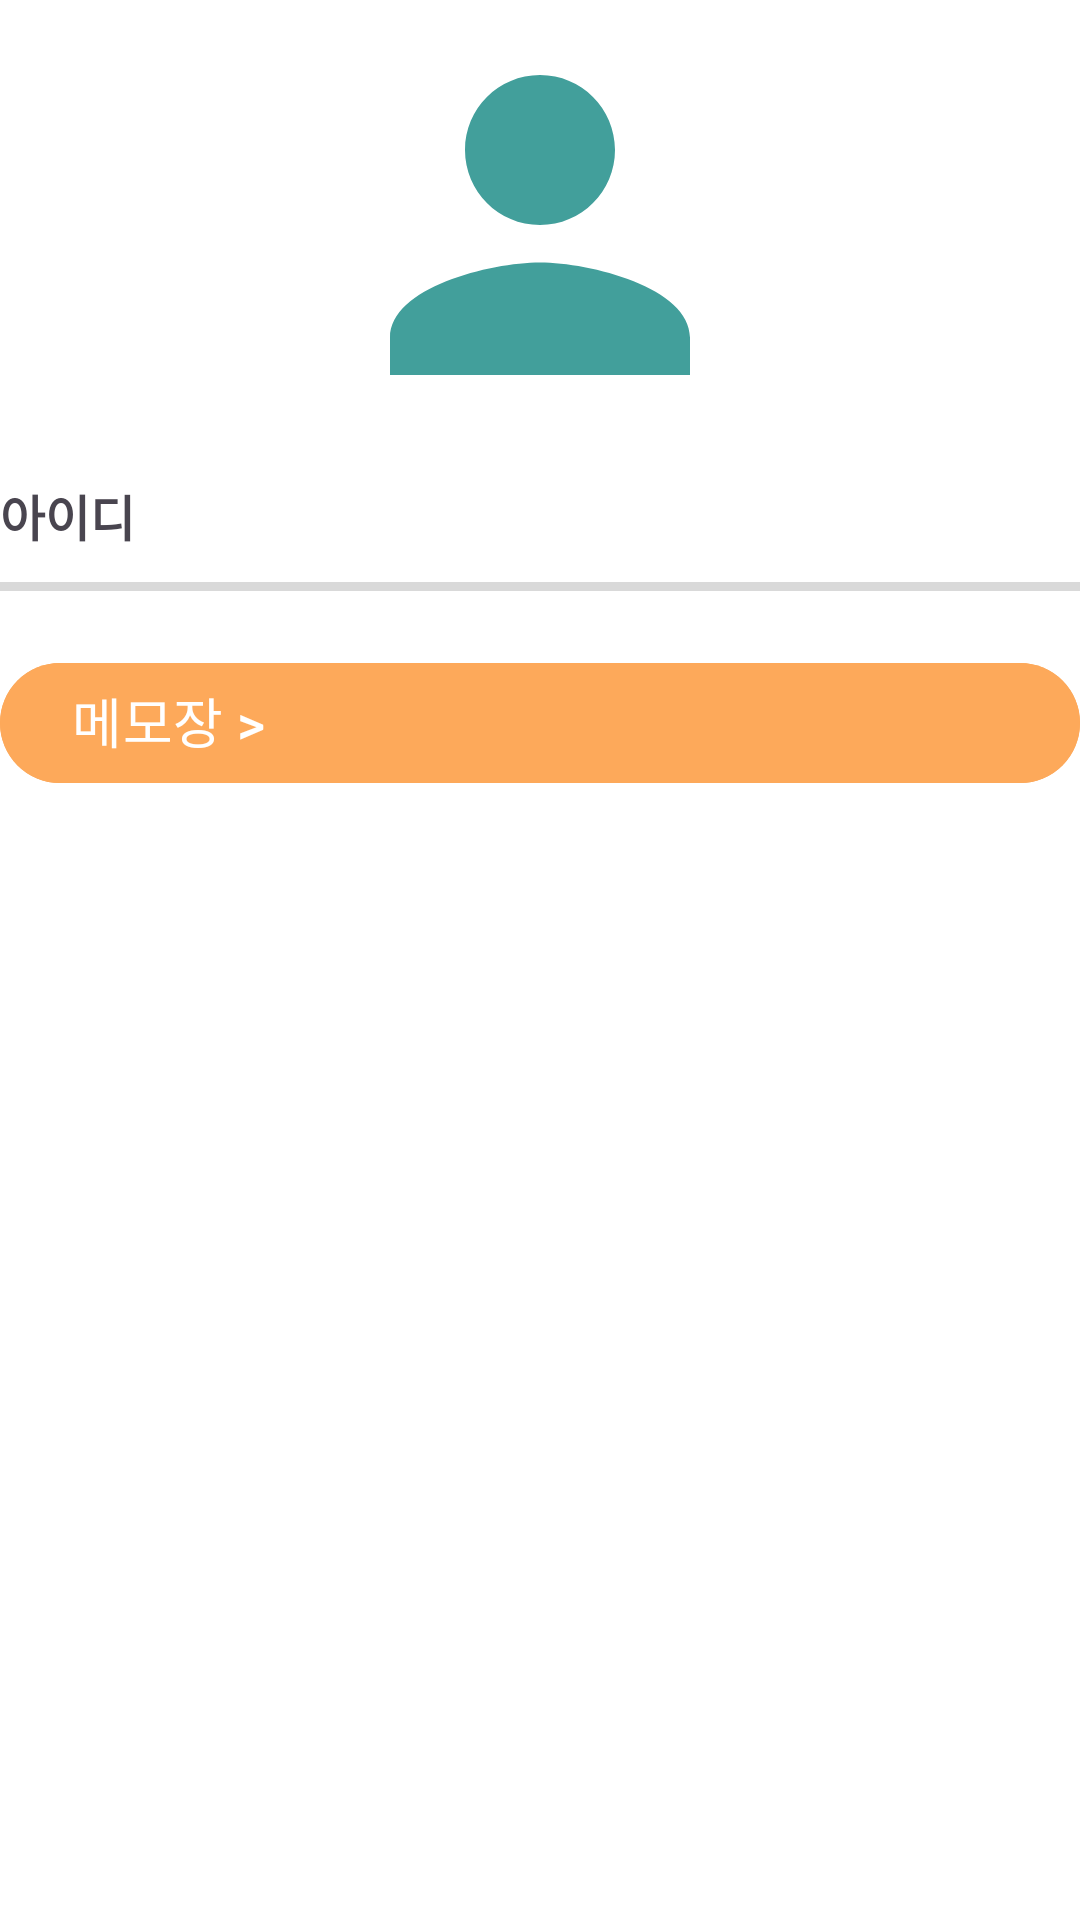

Where to tap for icons on this 1080px×1920px app screen, as point (x, y):
사용자 프로필: point (540, 225)
